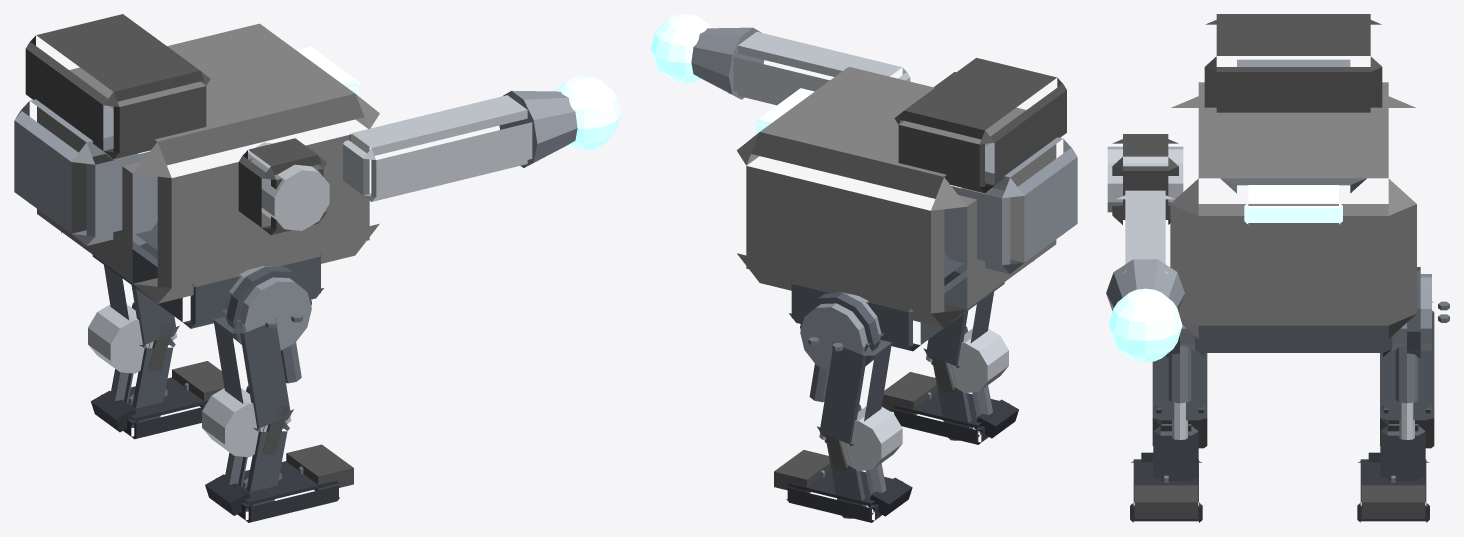
Rendered from conbot.glb.
The picture shows the model from 3 angles, left to right: view 1: azimuth 30°, elevation 25°; view 2: azimuth 150°, elevation 25°; view 3: azimuth 270°, elevation 25°; orthographic projection. The views are drawn at different scales.
Parts seen in each view (by area): view 1: body; view 2: body; view 3: body.
Boxes of the visible parts, left/top/right/bottom form: body: left=14, top=14, right=621, bottom=522; body: left=650, top=14, right=1077, bottom=522; body: left=1106, top=14, right=1449, bottom=522.
Bounding box in the file's own units: 23.2 × 19.08 × 13.93.
